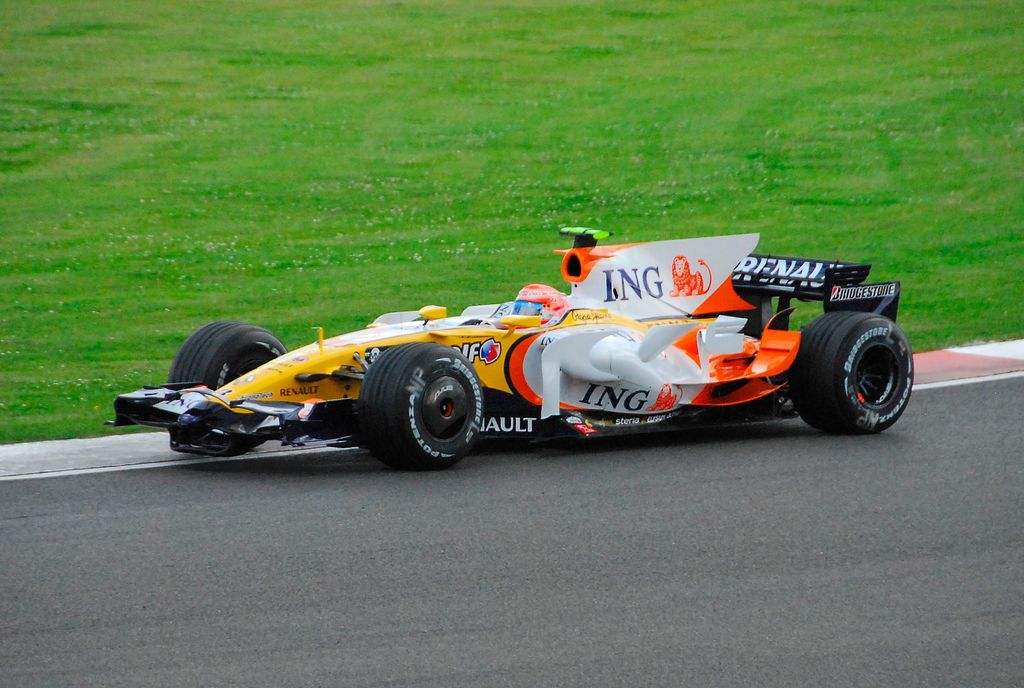Car: (103, 226, 913, 471)
